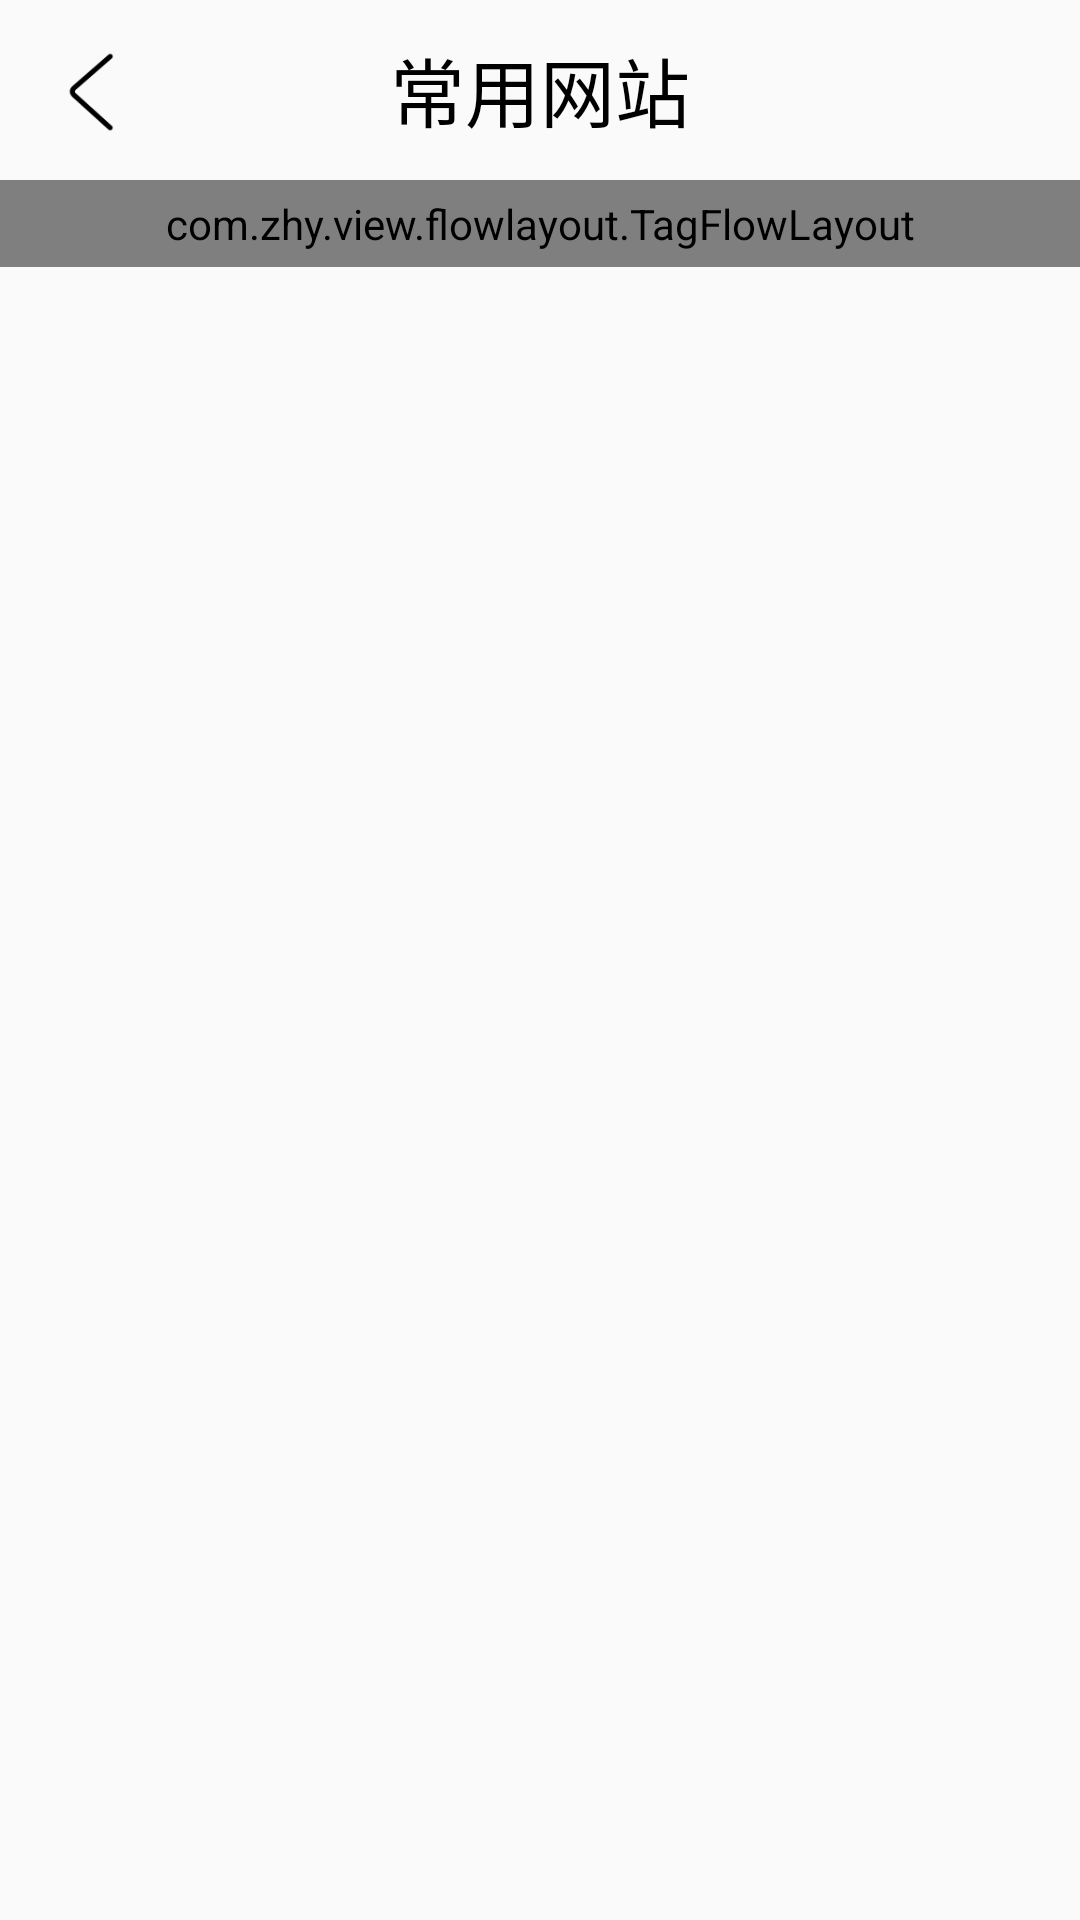

Icons on this 1080×1920 Android screen, each with the point to tap as (x=x, y=y):
back: (x=91, y=92)
